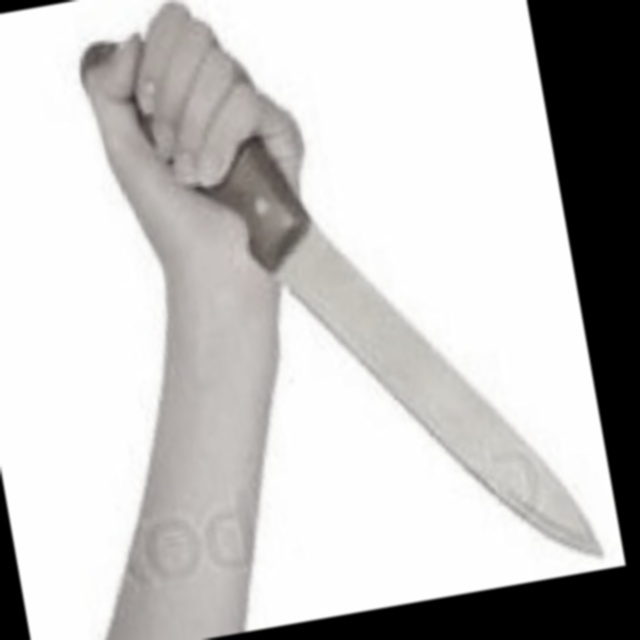Sharp-Object: (77, 0, 601, 632)
